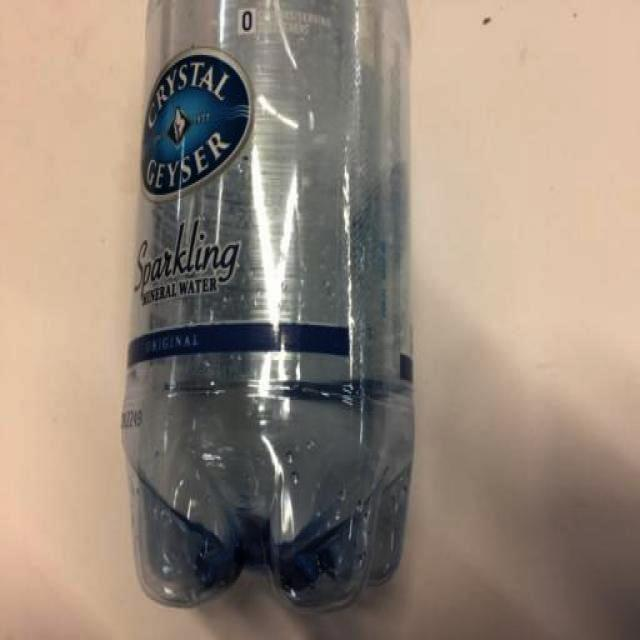bottle: (121, 0, 416, 608)
